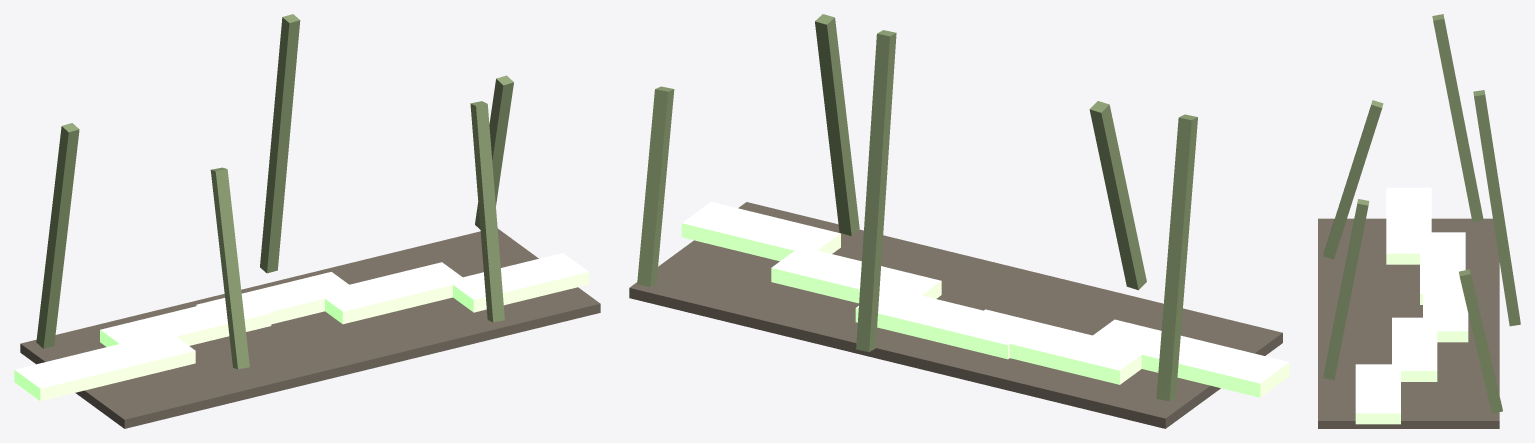
File: slime_trail_hero.glb
The picture shows the model from 3 angles, left to right: view 1: azimuth 30°, elevation 25°; view 2: azimuth 150°, elevation 25°; view 3: azimuth 270°, elevation 25°; orthographic projection. The views are drawn at different scales.
Visible parts, largest first — view 1: slime_trail_hero; view 2: slime_trail_hero; view 3: slime_trail_hero.
Boxes of the visible parts, left/top/right/bottom form: slime_trail_hero: left=14, top=14, right=600, bottom=428; slime_trail_hero: left=629, top=14, right=1289, bottom=428; slime_trail_hero: left=1318, top=14, right=1520, bottom=428.
Bounding box in the file's own units: 2.12 × 1.07 × 0.8043.
